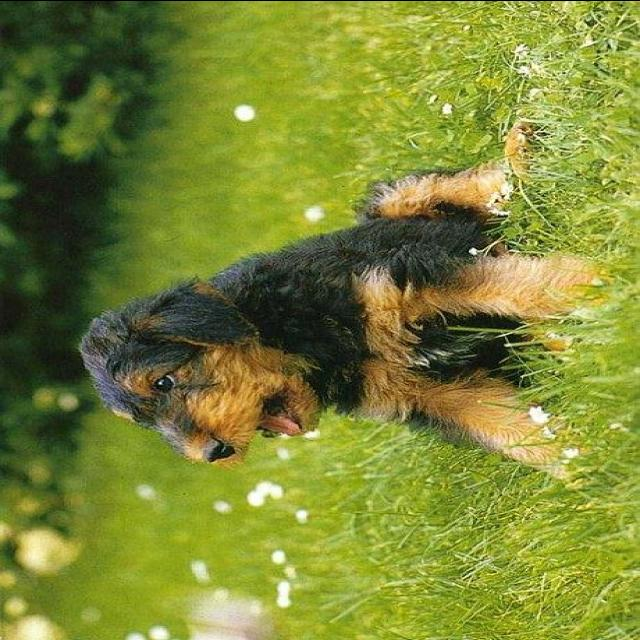airedale: (68, 125, 628, 483)
